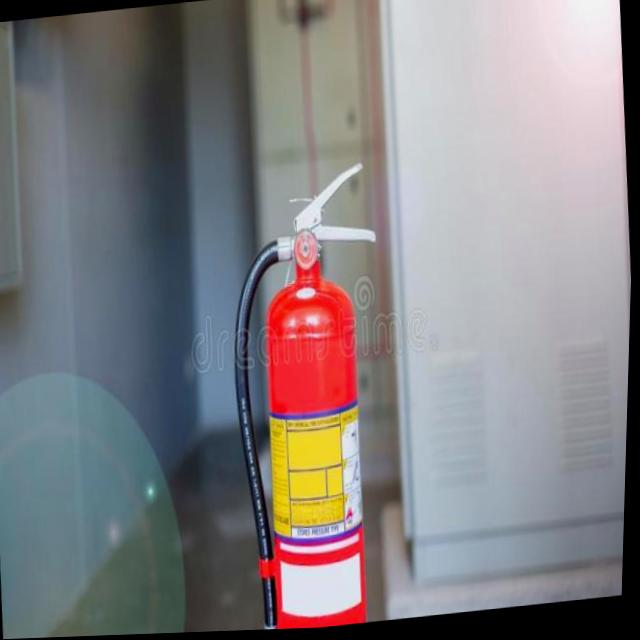FireExtinguisher: (211, 158, 408, 633)
